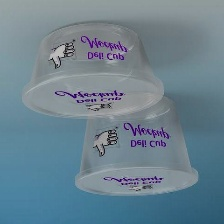plastic_box: (17, 18, 169, 125), (69, 90, 203, 202)
